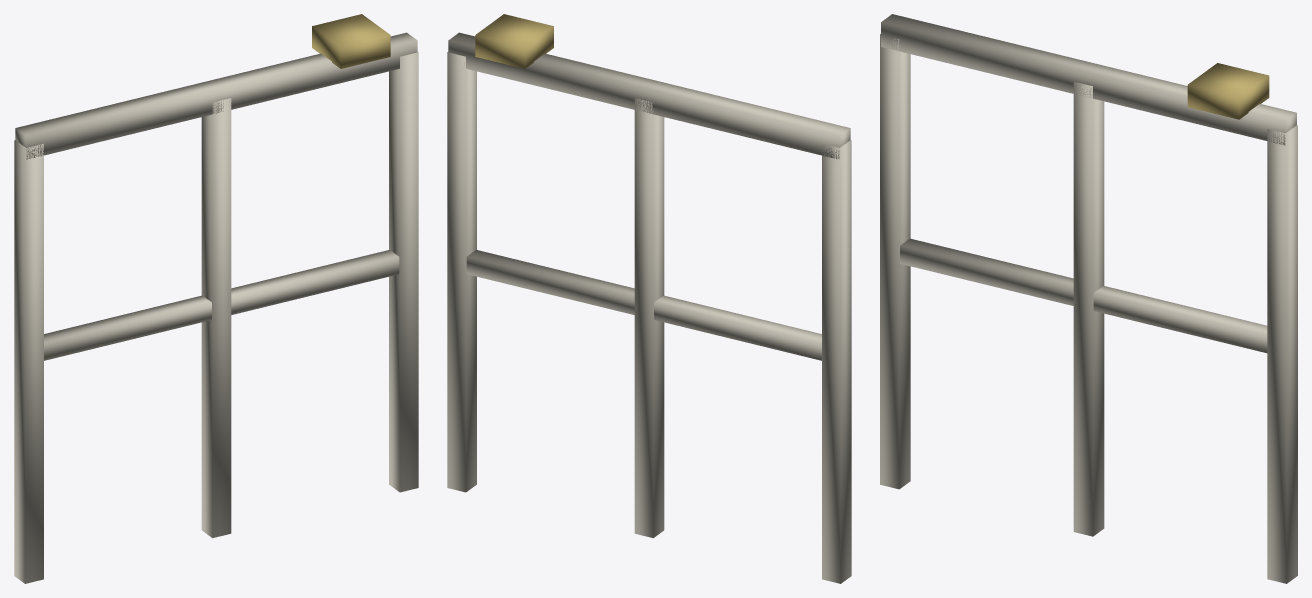
The model's file is civic_ladder_break_l90.glb.
3 renders of one model, left to right at view 1: azimuth 30°, elevation 25°; view 2: azimuth 150°, elevation 25°; view 3: azimuth 330°, elevation 25°, orthographic. The views are drawn at different scales.
Parts seen in each view (by area): view 1: world; view 2: world; view 3: world.
Boxes of the visible parts, bbox=[...] form: world: bbox=[14, 14, 418, 583]; world: bbox=[447, 14, 851, 583]; world: bbox=[880, 14, 1297, 583].
Bounding box in the file's own units: 0.945 × 1.08 × 0.12.
